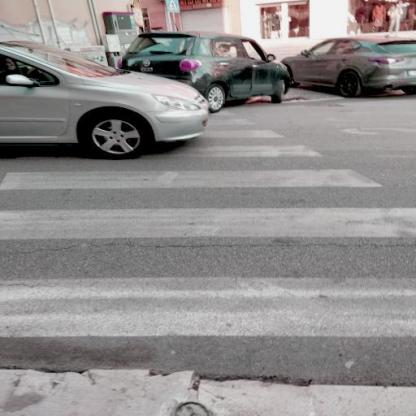crosswalk: (1, 142, 388, 194)
